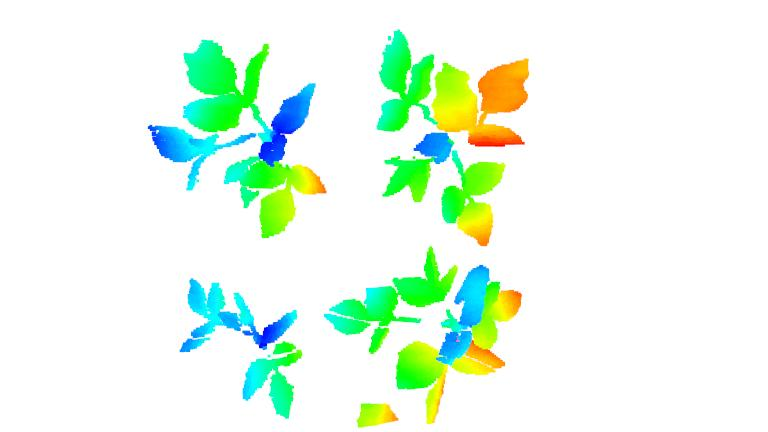mungbean: (143, 33, 333, 242), (322, 244, 525, 429), (376, 27, 530, 245), (177, 276, 305, 420)
